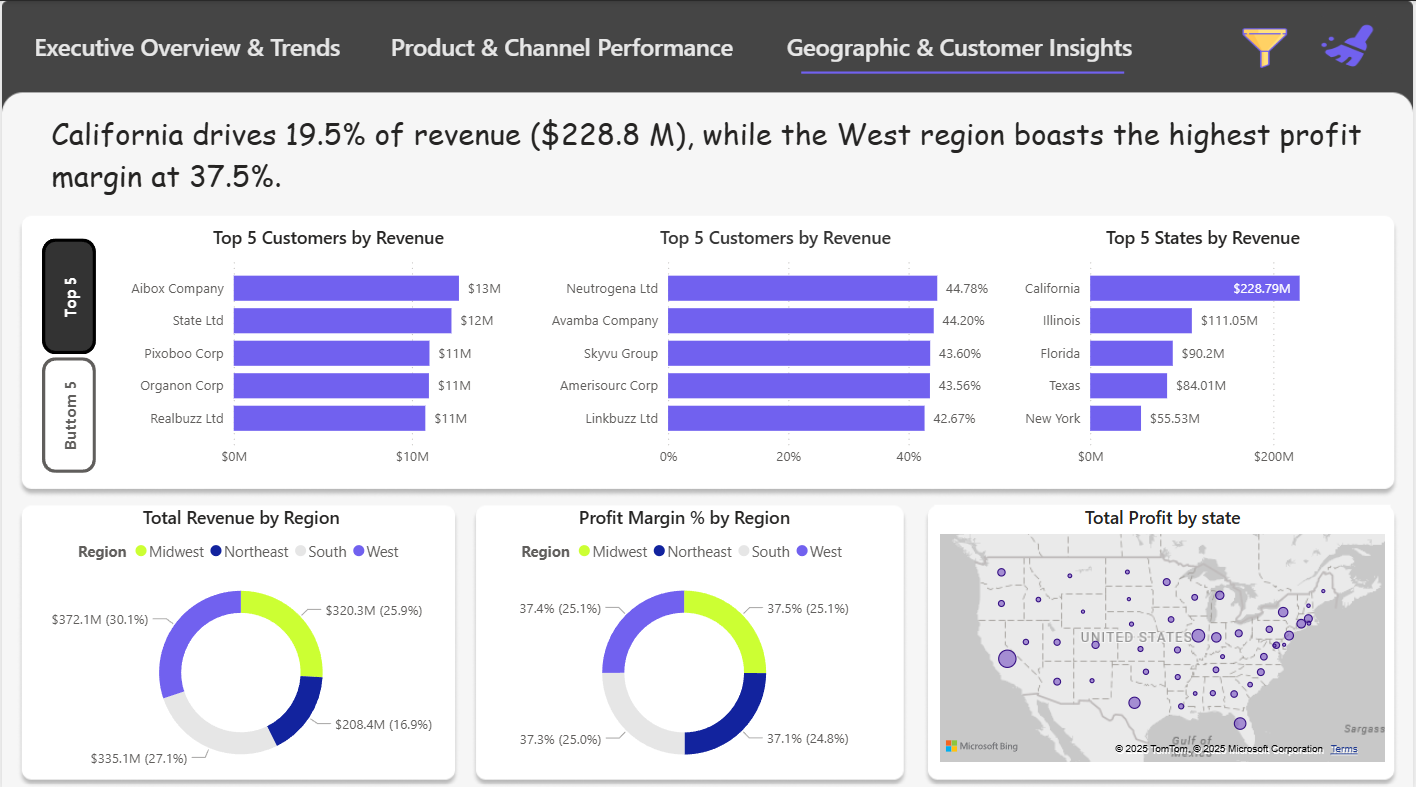

The page's visual inventory and layout, read from the dashboard file:
{"tool":"powerbi","page":{"name":"Geographic & Customer Insights","canvas":[1280,720],"ordinal":2},"visuals":[{"type":"barChart","title":"Top 5 States by Revenue","fields":{"Category":["Sales_data.state_name"],"Y":["Measures_.Total Revenue"]},"box":[917,203.4,344.1,228.8],"z":0,"group":"g2"},{"type":"actionButton","box":[37,215,49,105],"z":0,"group":"g1"},{"type":"donutChart","title":"Total Revenue by Region","fields":{"Category":["Sales_data.us_region"],"Y":["Measures_.Total Revenue"]},"box":[19.8,457,395.3,253.5],"z":0},{"type":"barChart","title":"Top 5 Customers by Revenue","fields":{"Category":["Sales_data.customer_name"],"Y":["Measures_.Profit Margin %"]},"box":[486.5,203.4,430.5,228.8],"z":1000,"group":"g2"},{"type":"actionButton","box":[36.7,323.3,49,105],"z":1000,"group":"g1"},{"type":"donutChart","title":"Profit Margin % by Region","fields":{"Category":["Sales_data.us_region"],"Y":["Measures_.Profit Margin %"]},"box":[415.1,457,408.1,253.5],"z":1000},{"type":"actionButton","box":[337.2,14.1,342.3,55.1],"z":2000},{"type":"barChart","title":"Top 5 Customers by Revenue","fields":{"Category":["Sales_data.customer_name"],"Y":["Measures_.Total Revenue"]},"box":[105.1,203.4,381.4,228.8],"z":2000,"group":"g2"},{"type":"actionButton","box":[9,14.1,317.9,55.1],"z":3000},{"type":"actionButton","box":[702.6,14.1,333.3,55.1],"z":4000},{"type":"group","id":"g1","title":"top 5 button","box":[36.7,215,48.3,213.3],"z":6000},{"type":"map","fields":{"Category":["Sales_data.state"],"Size":["Measures_.Total Profit"]},"box":[846.5,457,414,238.4],"z":7000},{"type":"group","id":"g2","title":"top 5","box":[105.1,203.4,1155.9,228.8],"z":9000},{"type":"textbox","title":"Top Text","box":[39.5,96.5,1223.3,93],"z":11000},{"type":"actionButton","box":[1188,14,70,55],"z":12000},{"type":"actionButton","box":[1120,21,53,42],"z":13000}]}

Visuals, with their boxes in screenshot pixels (x1, y1, x2, y2), scaled from the page's 1280x720 canvas onto the 1416x787 screenshot:
"Top 5 States by Revenue" barChart: locate(1014, 222, 1395, 472)
actionButton: locate(41, 235, 95, 350)
"Total Revenue by Region" donutChart: locate(22, 500, 459, 777)
"Top 5 Customers by Revenue" barChart: locate(538, 222, 1014, 472)
actionButton: locate(41, 353, 95, 468)
"Profit Margin % by Region" donutChart: locate(459, 500, 911, 777)
actionButton: locate(373, 15, 752, 76)
"Top 5 Customers by Revenue" barChart: locate(116, 222, 538, 472)
actionButton: locate(10, 15, 362, 76)
actionButton: locate(777, 15, 1146, 76)
"top 5 button" group: locate(41, 235, 94, 468)
map - Sales_data.state x Measures_.Total Profit: locate(936, 500, 1394, 760)
"top 5" group: locate(116, 222, 1395, 472)
"Top Text" textbox: locate(44, 105, 1397, 207)
actionButton: locate(1314, 15, 1392, 75)
actionButton: locate(1239, 23, 1298, 69)
